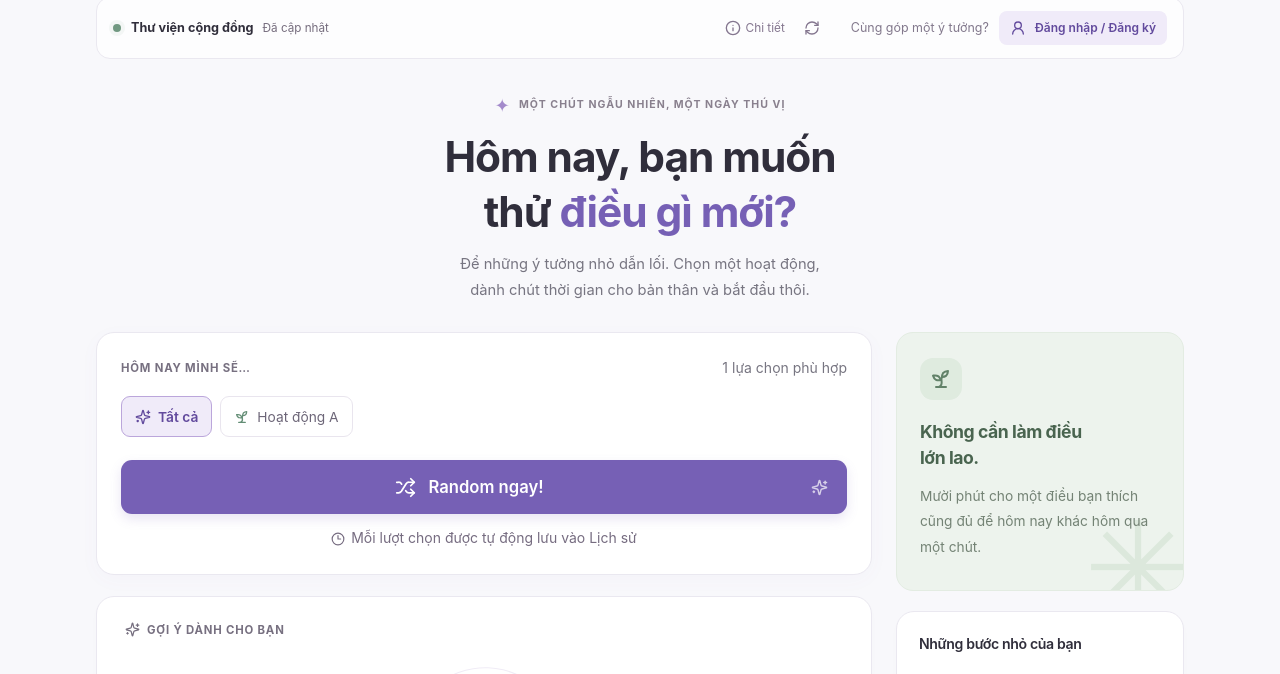
Scenario: UI cộng đồng › giữ nguyên JSON cũ khi nâng cấp và chỉ lấy lịch sử, thư viện lấy từ server
The image size is (1280, 674).
Expected: the button named "Tải lại thư viện" is enabled, [797, 10, 827, 46]
Click the button "Random ngay!" at (484, 487), box [121, 460, 847, 514]
(page scrolled)
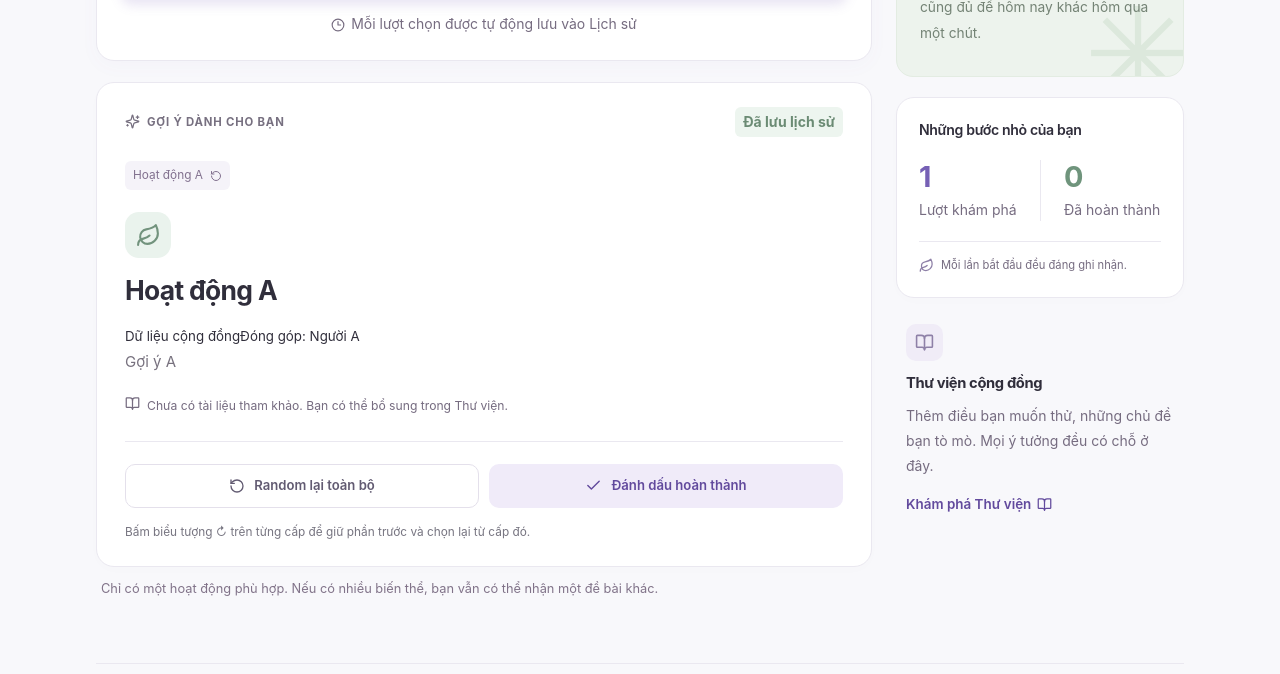
Expected: the heading "Hoạt động A" is shown, [125, 274, 277, 306]
